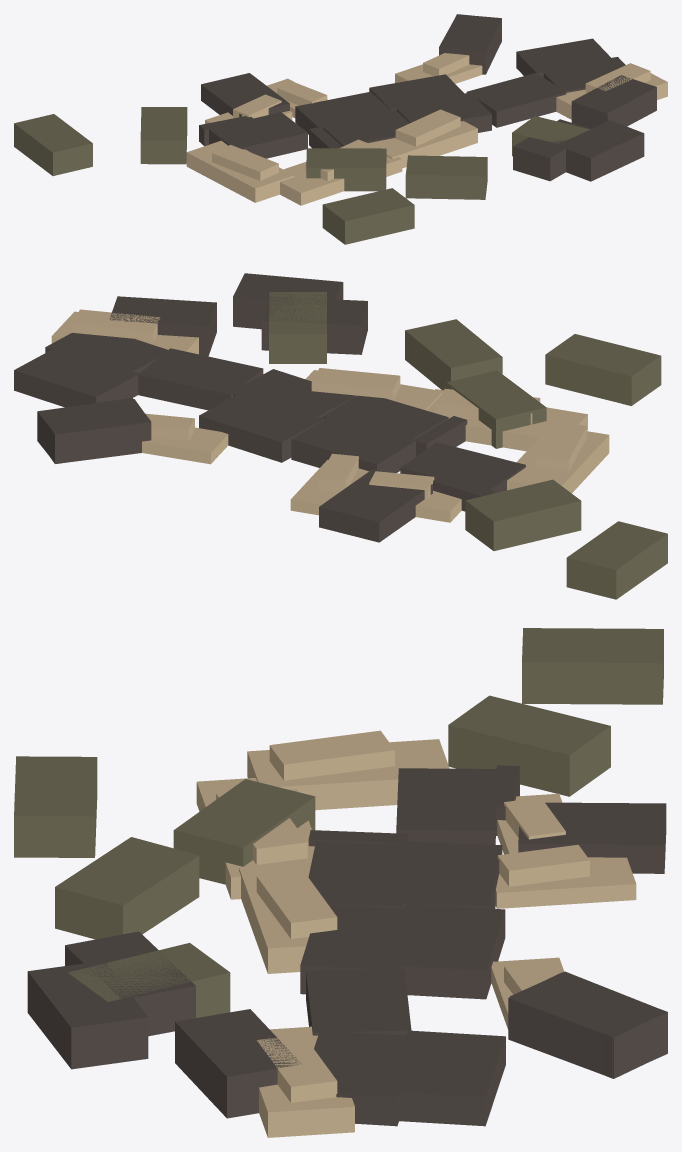
Rendered from SM_SacosRemate_v1_Talud_e3_Brecha_LOD0.fbx.
3 views of the same model, one above another, from view 1: azimuth 30°, elevation 25°; view 2: azimuth 150°, elevation 25°; view 3: azimuth 270°, elevation 25° (orthographic). The views are drawn at different scales.
Visible parts, largest first — view 1: SM_sacos_piezas_v27_LOD0; view 2: SM_sacos_piezas_v27_LOD0; view 3: SM_sacos_piezas_v27_LOD0.
Boxes of the visible parts, x1,y1,x2,y2 form: SM_sacos_piezas_v27_LOD0: [14, 14, 667, 244]; SM_sacos_piezas_v27_LOD0: [14, 273, 667, 599]; SM_sacos_piezas_v27_LOD0: [14, 628, 667, 1137].
Size of the model in its own units: 6.29 by 0.26 by 3.71.
